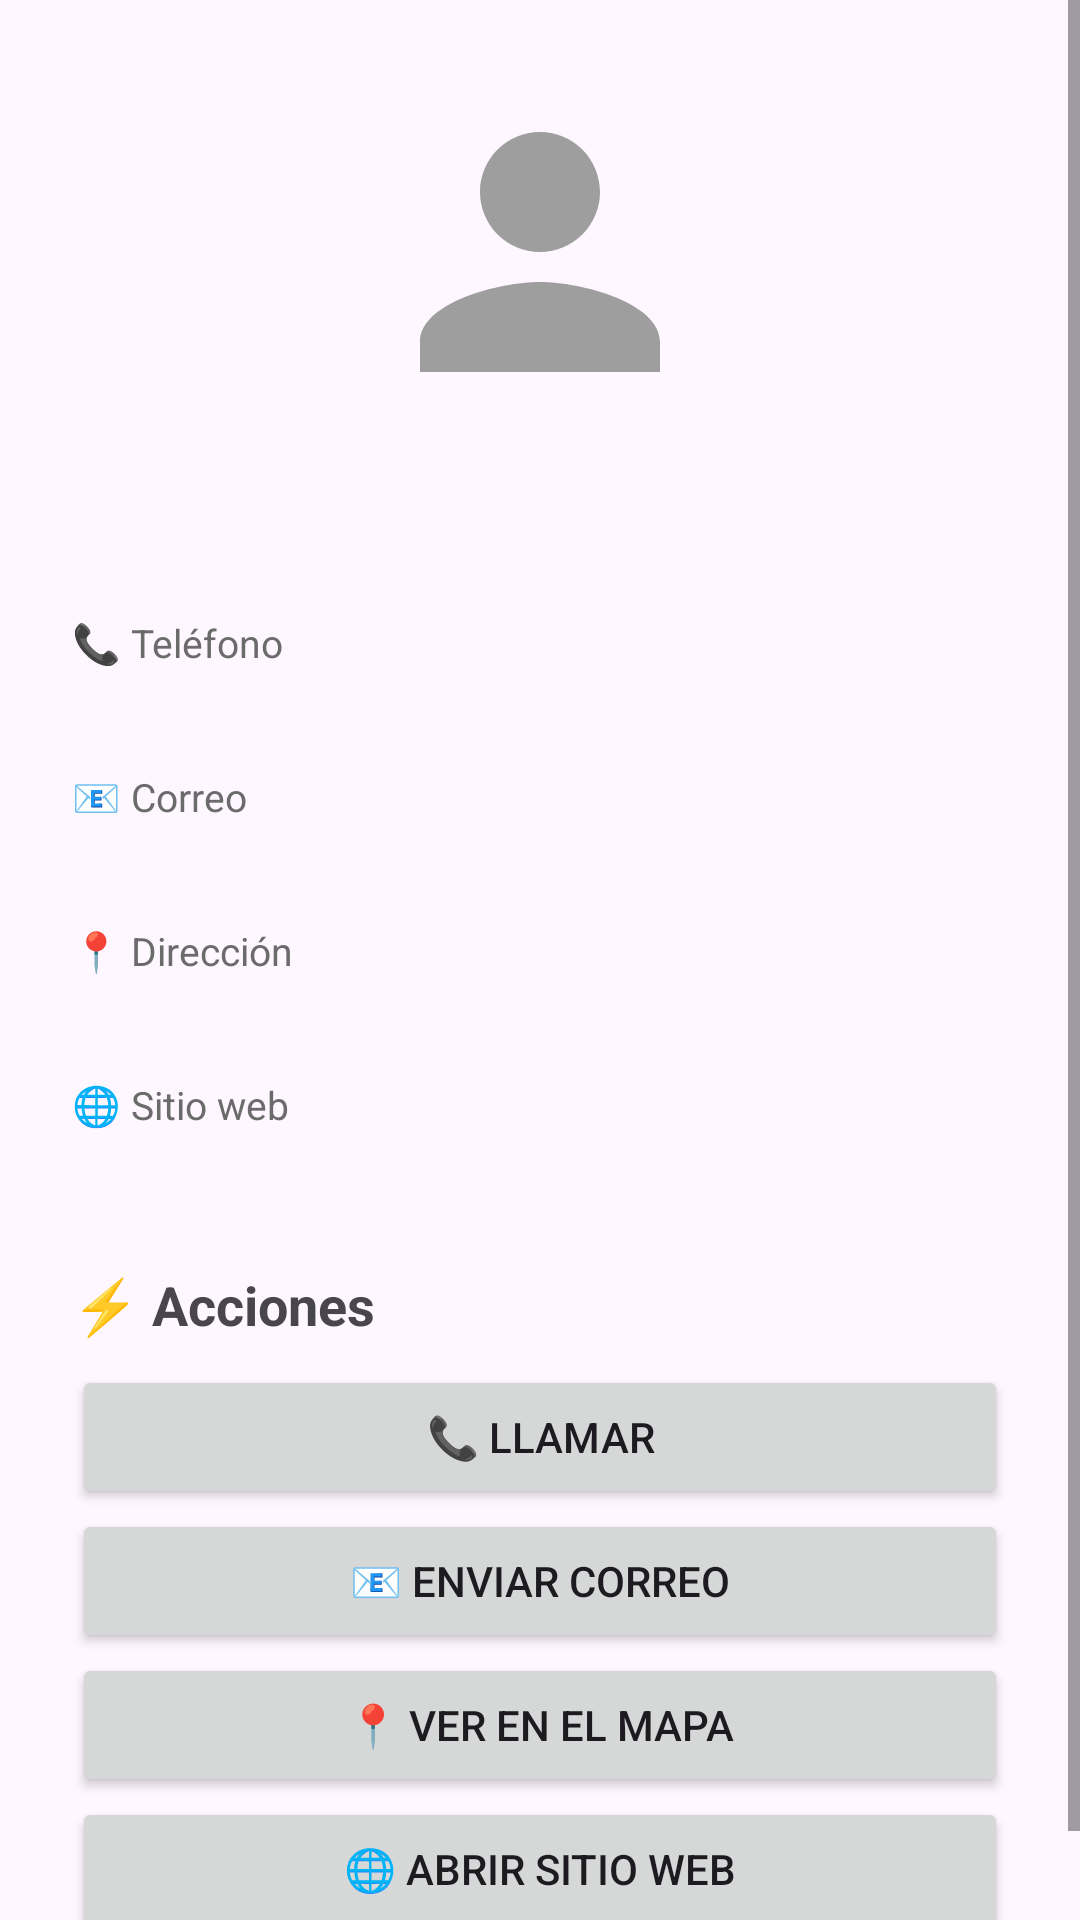

Screen size 1080×1920. Icon name, then its center in pixels as [x,y]:
Foto del contacto: [540,252]
